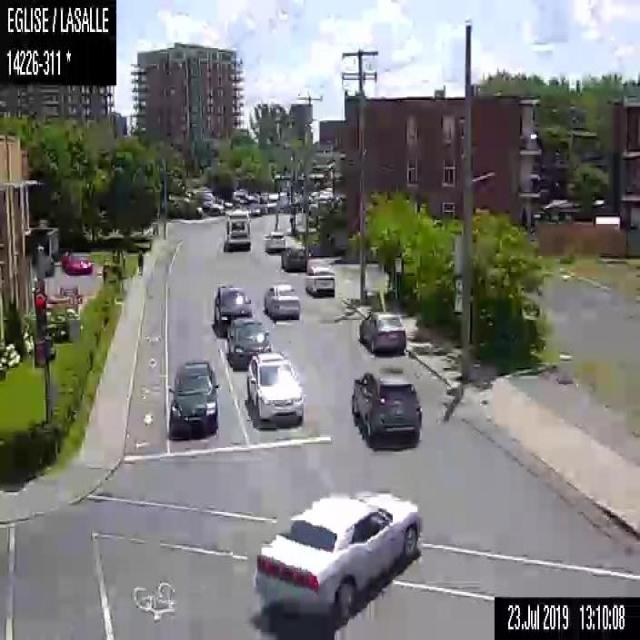bus: (224, 212, 252, 252)
pedestrian: (136, 249, 143, 276)
vehicle: (251, 487, 424, 620), (349, 367, 423, 440), (246, 352, 303, 426), (166, 358, 219, 434), (228, 317, 271, 369), (210, 285, 255, 334), (358, 312, 407, 352), (263, 283, 299, 320), (305, 258, 335, 295), (281, 238, 309, 270), (62, 250, 92, 272), (264, 231, 284, 252), (204, 197, 223, 214)
